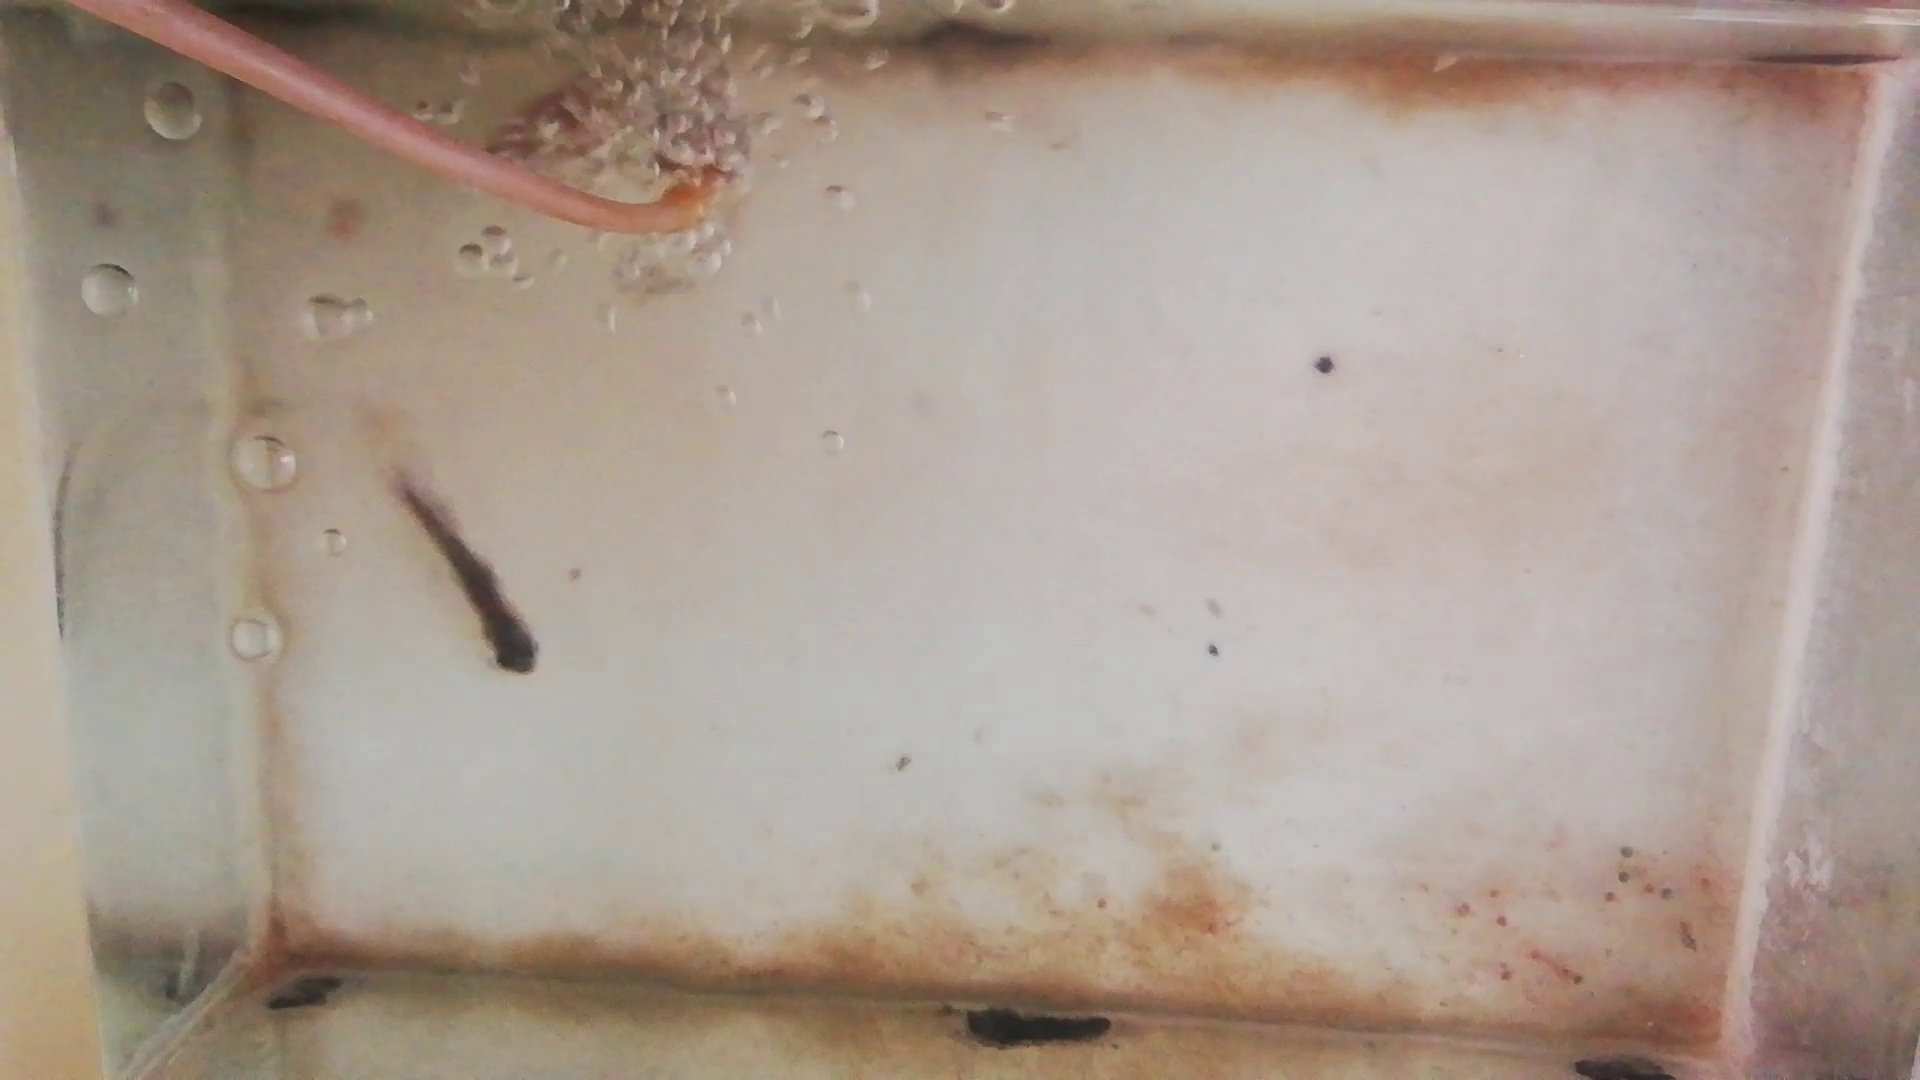fish: (397, 483, 537, 679), (487, 80, 621, 160)
